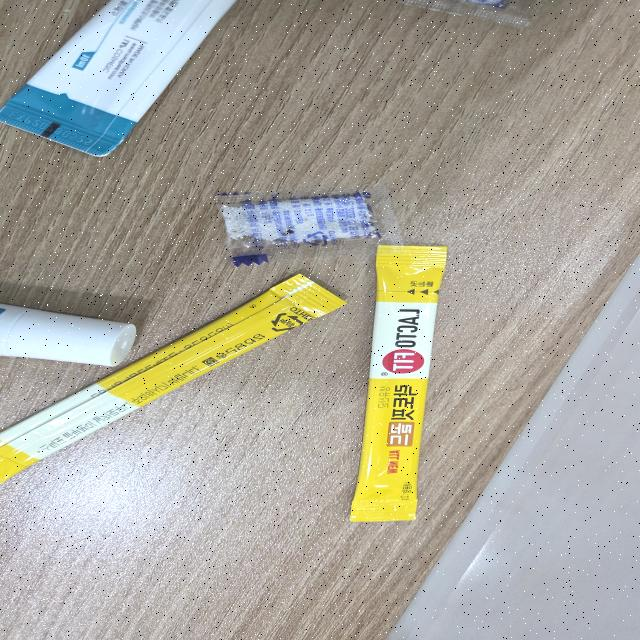lacto: (0, 272, 349, 483), (349, 244, 452, 524)
lib: (0, 0, 237, 159), (0, 305, 139, 368)
salt: (212, 178, 400, 268), (381, 0, 553, 32)
